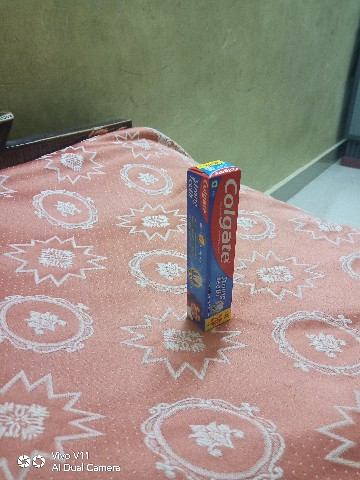colgatetoothpaste small: (169, 152, 254, 352)
